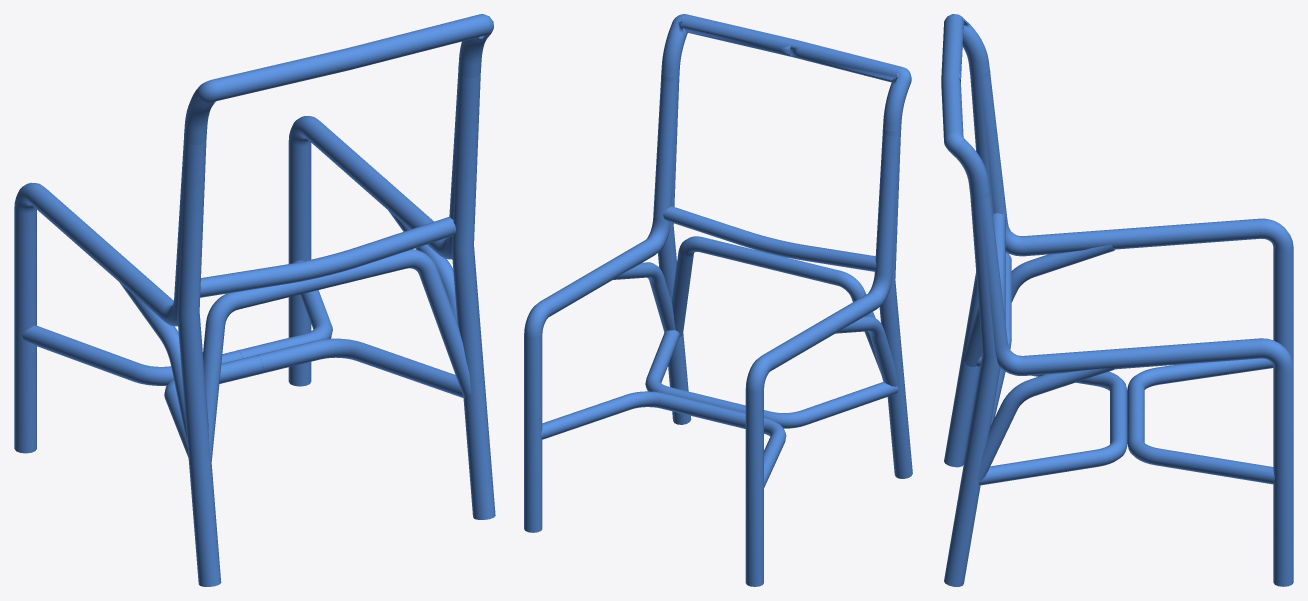
The model's file is SEDIA BUONA.obj.
The picture shows the model from 3 angles, left to right: view 1: azimuth 30°, elevation 25°; view 2: azimuth 150°, elevation 25°; view 3: azimuth 270°, elevation 25°; orthographic projection. The views are drawn at different scales.
Parts seen in each view (by area): view 1: Line010, Line016, Line017; view 2: Line010, Line016, Line017; view 3: Line010, Line016, Line017.
Part boxes in pixels (<box>): Line010: <box>14,14,495,586</box>; Line016: <box>22,210,471,460</box>; Line017: <box>200,216,455,297</box>; Line010: <box>524,14,912,586</box>; Line016: <box>541,236,899,487</box>; Line017: <box>663,206,876,271</box>; Line010: <box>941,14,1293,586</box>; Line016: <box>964,244,1274,485</box>; Line017: <box>993,213,1005,321</box>.
Bounding box in the file's own units: 20.67 × 33.84 × 23.99.
